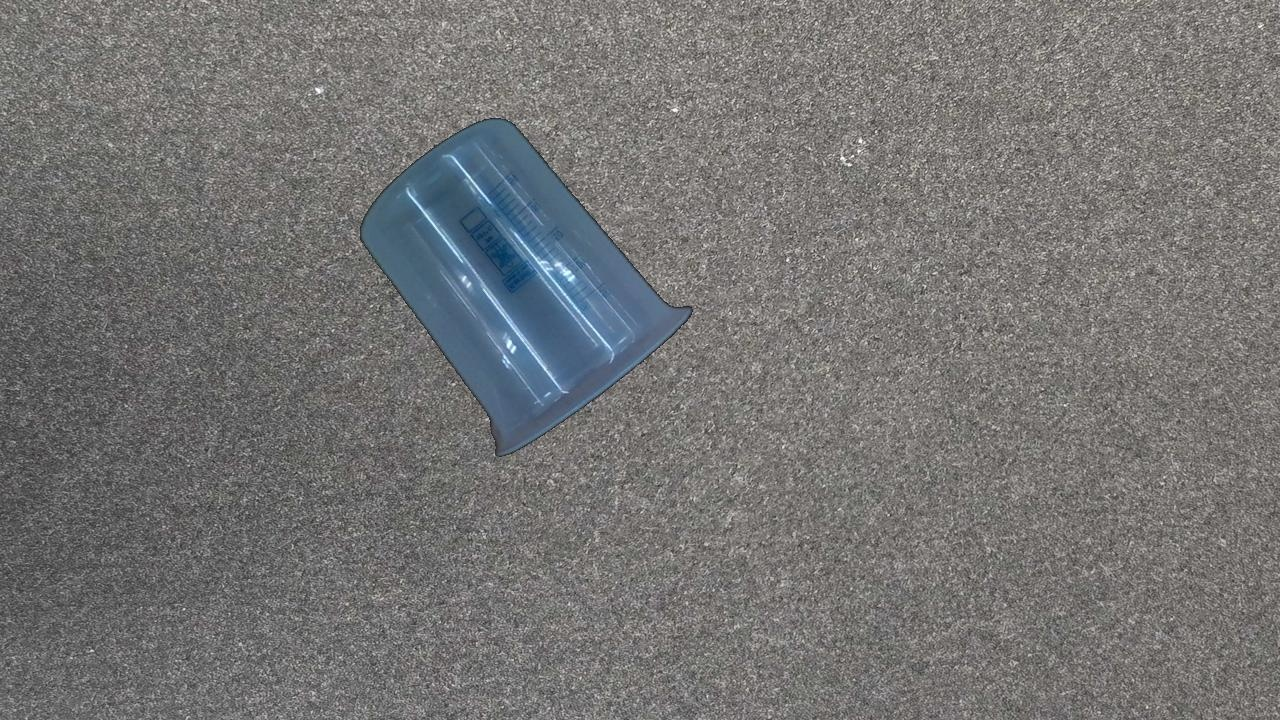becker: (358, 115, 695, 460)
